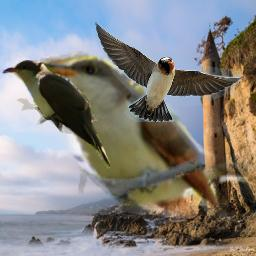Cuckoo: (32, 41, 248, 219), (0, 60, 110, 169)
Swallow: (93, 20, 241, 122)
